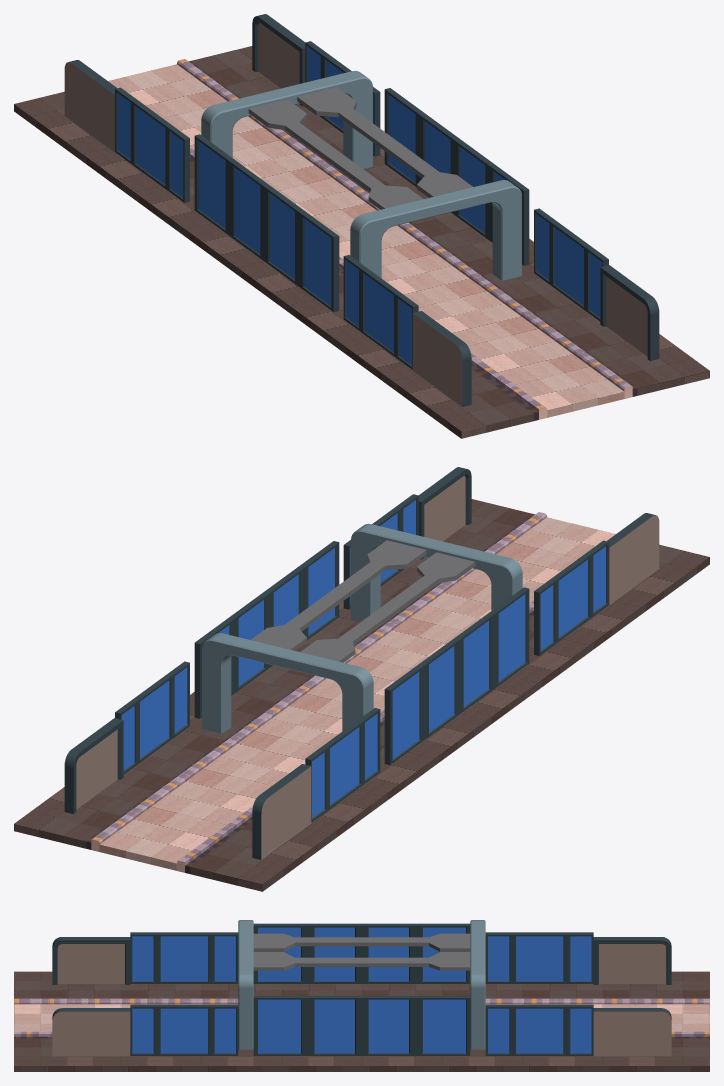
File: Safe_Chunk01_2mLane01.fbx
3 renders of one model, top to bottom at view 1: azimuth 30°, elevation 25°; view 2: azimuth 150°, elevation 25°; view 3: azimuth 270°, elevation 25°, orthographic. The views are drawn at different scales.
Parts seen in each view (by area): view 1: Base1, SideWall_023, SideWall_024, Arches1; view 2: Base1, SideWall_023, SideWall_024, Arches1; view 3: SideWall_024, Base1, SideWall_023, Arches1.
Part boxes in pixels (bbox=[...]): Base1: bbox=[14, 46, 709, 438]; SideWall_023: bbox=[64, 60, 471, 406]; SideWall_024: bbox=[252, 14, 659, 361]; Arches1: bbox=[201, 70, 521, 280]; Base1: bbox=[14, 499, 709, 891]; SideWall_023: bbox=[252, 513, 659, 859]; SideWall_024: bbox=[64, 467, 471, 814]; Arches1: bbox=[202, 523, 522, 733]; SideWall_024: bbox=[52, 996, 671, 1056]; Base1: bbox=[14, 971, 709, 1071]; SideWall_023: bbox=[52, 923, 671, 984]; Arches1: bbox=[238, 920, 485, 1049].
Bounding box in the file's own units: 1925 × 732 × 6000.
